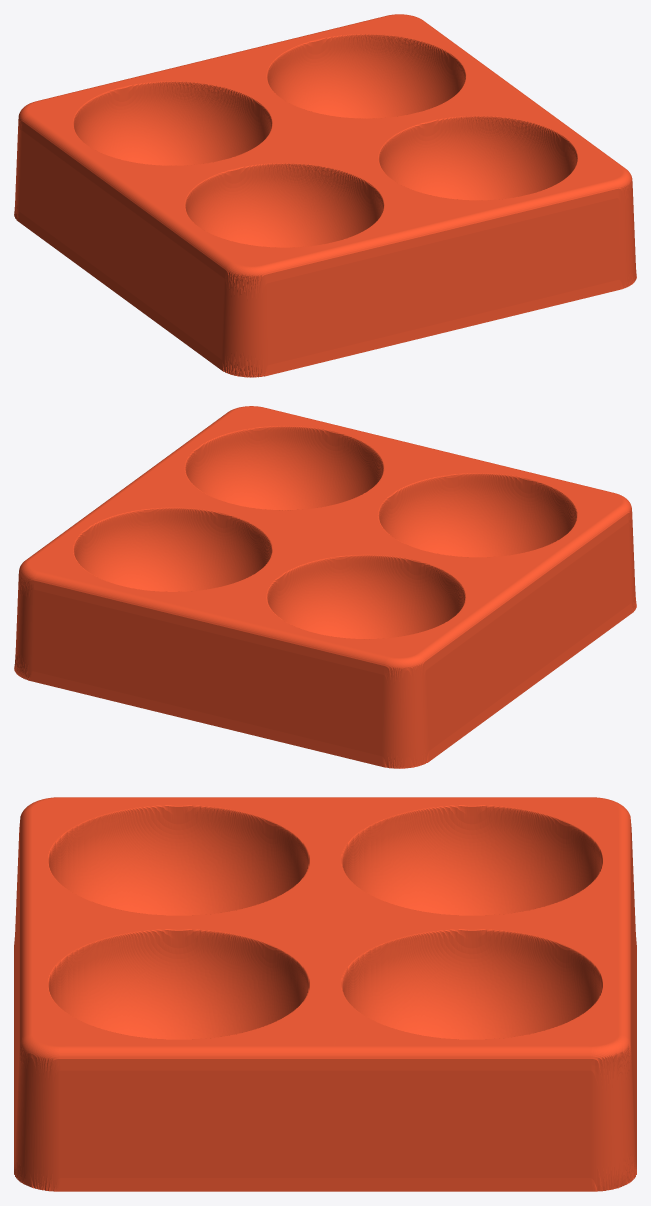
The model's file is mold.glb.
3 views of the same model, one above another, from view 1: azimuth 30°, elevation 25°; view 2: azimuth 150°, elevation 25°; view 3: azimuth 270°, elevation 25° (orthographic). The views are drawn at different scales.
Parts seen in each view (by area): view 1: geometry_0; view 2: geometry_0; view 3: geometry_0.
Boxes of the visible parts, x1,y1,x2,y2 form: geometry_0: (14,14,636,377); geometry_0: (14,406,636,768); geometry_0: (14,797,636,1191).
Bounding box in the file's own units: 0.1225 × 0.0299 × 0.1225.
